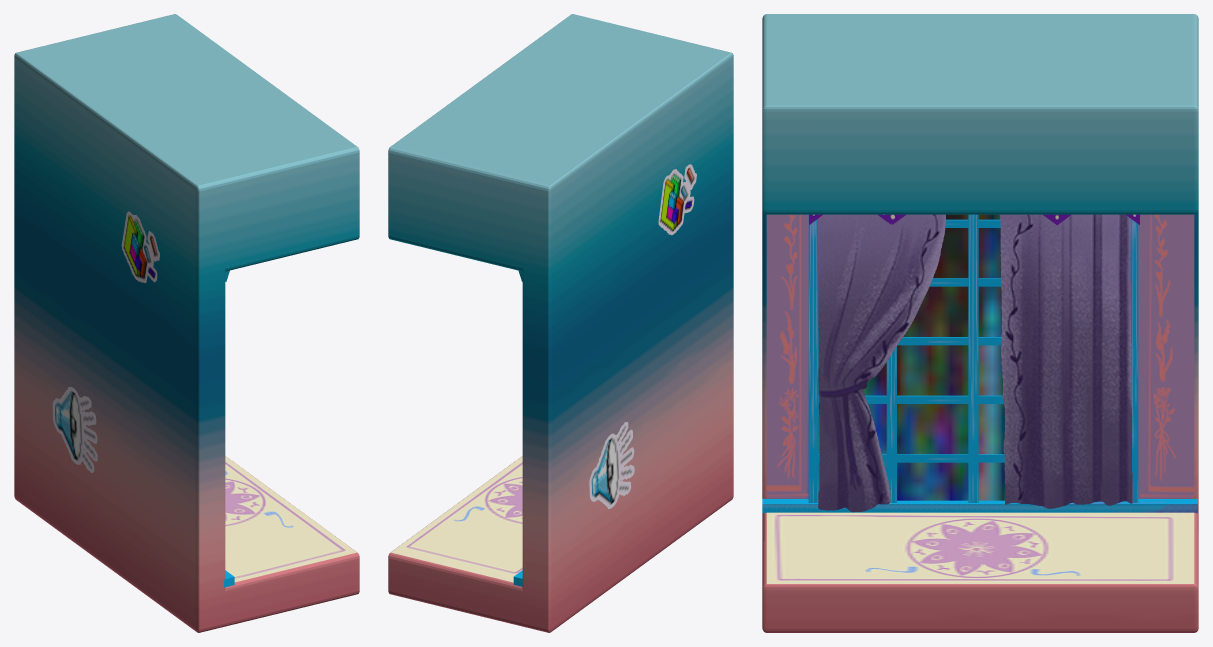
Rendered from Structure_Vapor_Glass_Corner_Art.fbx.
3 views of the same model, side by side, from view 1: azimuth 30°, elevation 25°; view 2: azimuth 150°, elevation 25°; view 3: azimuth 270°, elevation 25° (orthographic). The views are drawn at different scales.
Visible parts, largest first — view 1: Structure_Vapor_Glass_Corner_Art; view 2: Structure_Vapor_Glass_Corner_Art; view 3: Structure_Vapor_Glass_Corner_Art.
Boxes of the visible parts, x1,y1,x2,y2 form: Structure_Vapor_Glass_Corner_Art: (14,14,359,632); Structure_Vapor_Glass_Corner_Art: (388,14,733,632); Structure_Vapor_Glass_Corner_Art: (762,14,1198,632).
Size of the model in its own units: 3.04 by 7.99 by 5.99.
